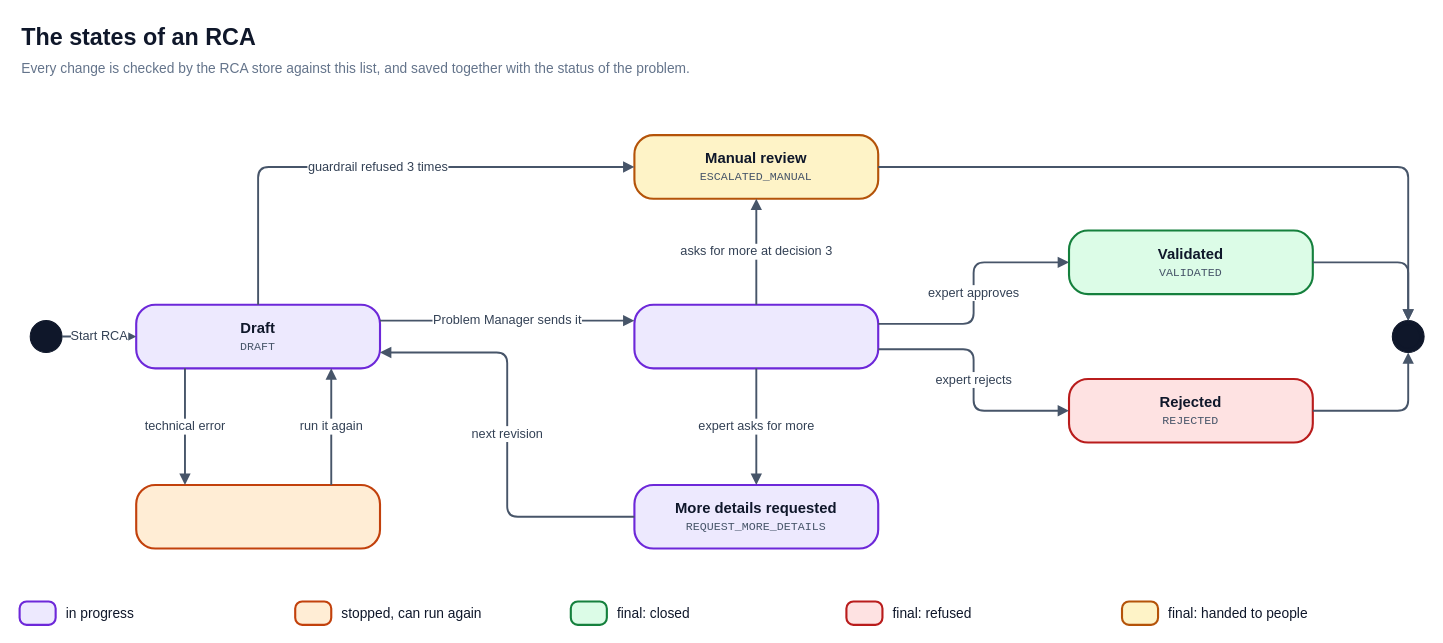
This 1443x643 diagram has some shape labels left out. The shapes that lost their labels are listed below. From the top down, each one's box as (x1, y1, x2, y2) in pixels, then its label:
(633, 303, 879, 369): Awaiting review AWAITING_TECHNICAL_REVIEW
(135, 483, 381, 549): Failed FAILED
